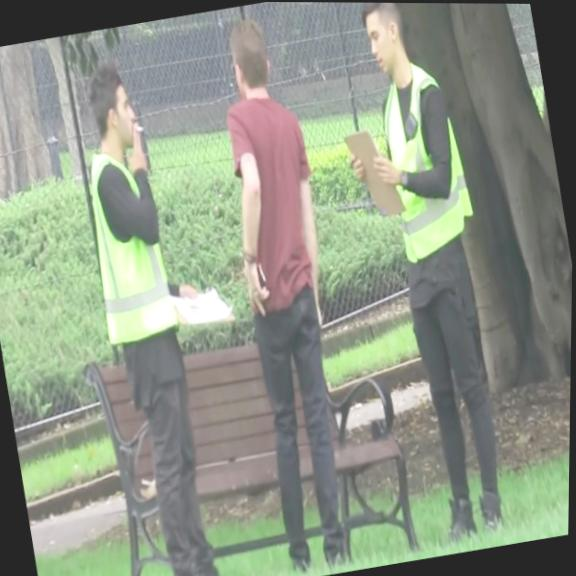safety_vest: (369, 55, 483, 267), (77, 145, 184, 350)
